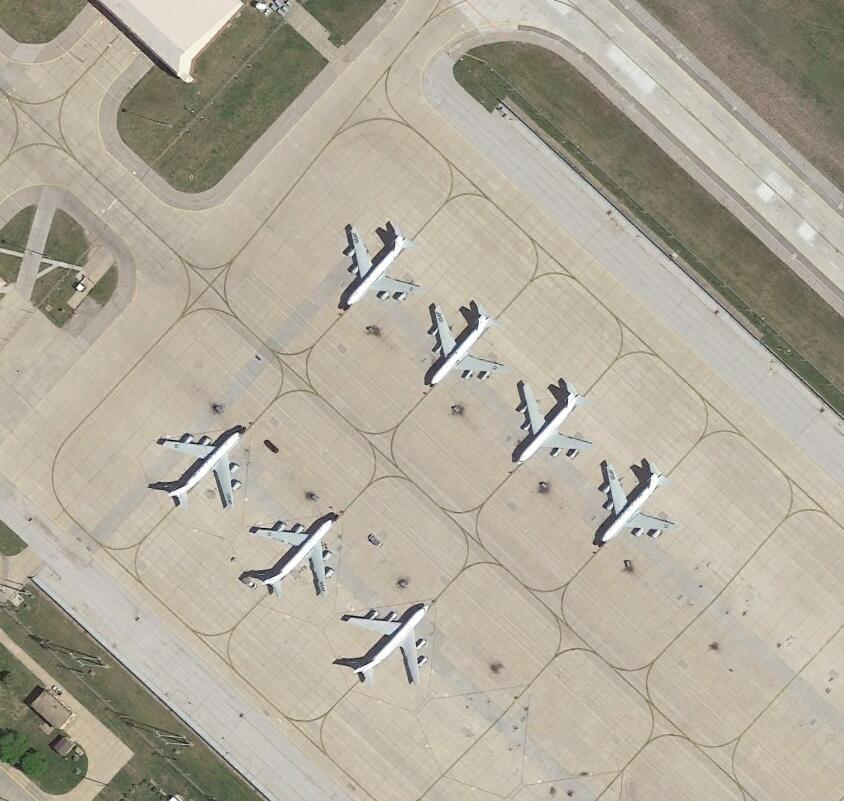A11: (337, 596, 437, 689), (153, 419, 250, 512), (241, 512, 342, 596), (594, 458, 680, 549), (339, 222, 424, 309), (421, 304, 509, 388), (506, 383, 596, 464)
